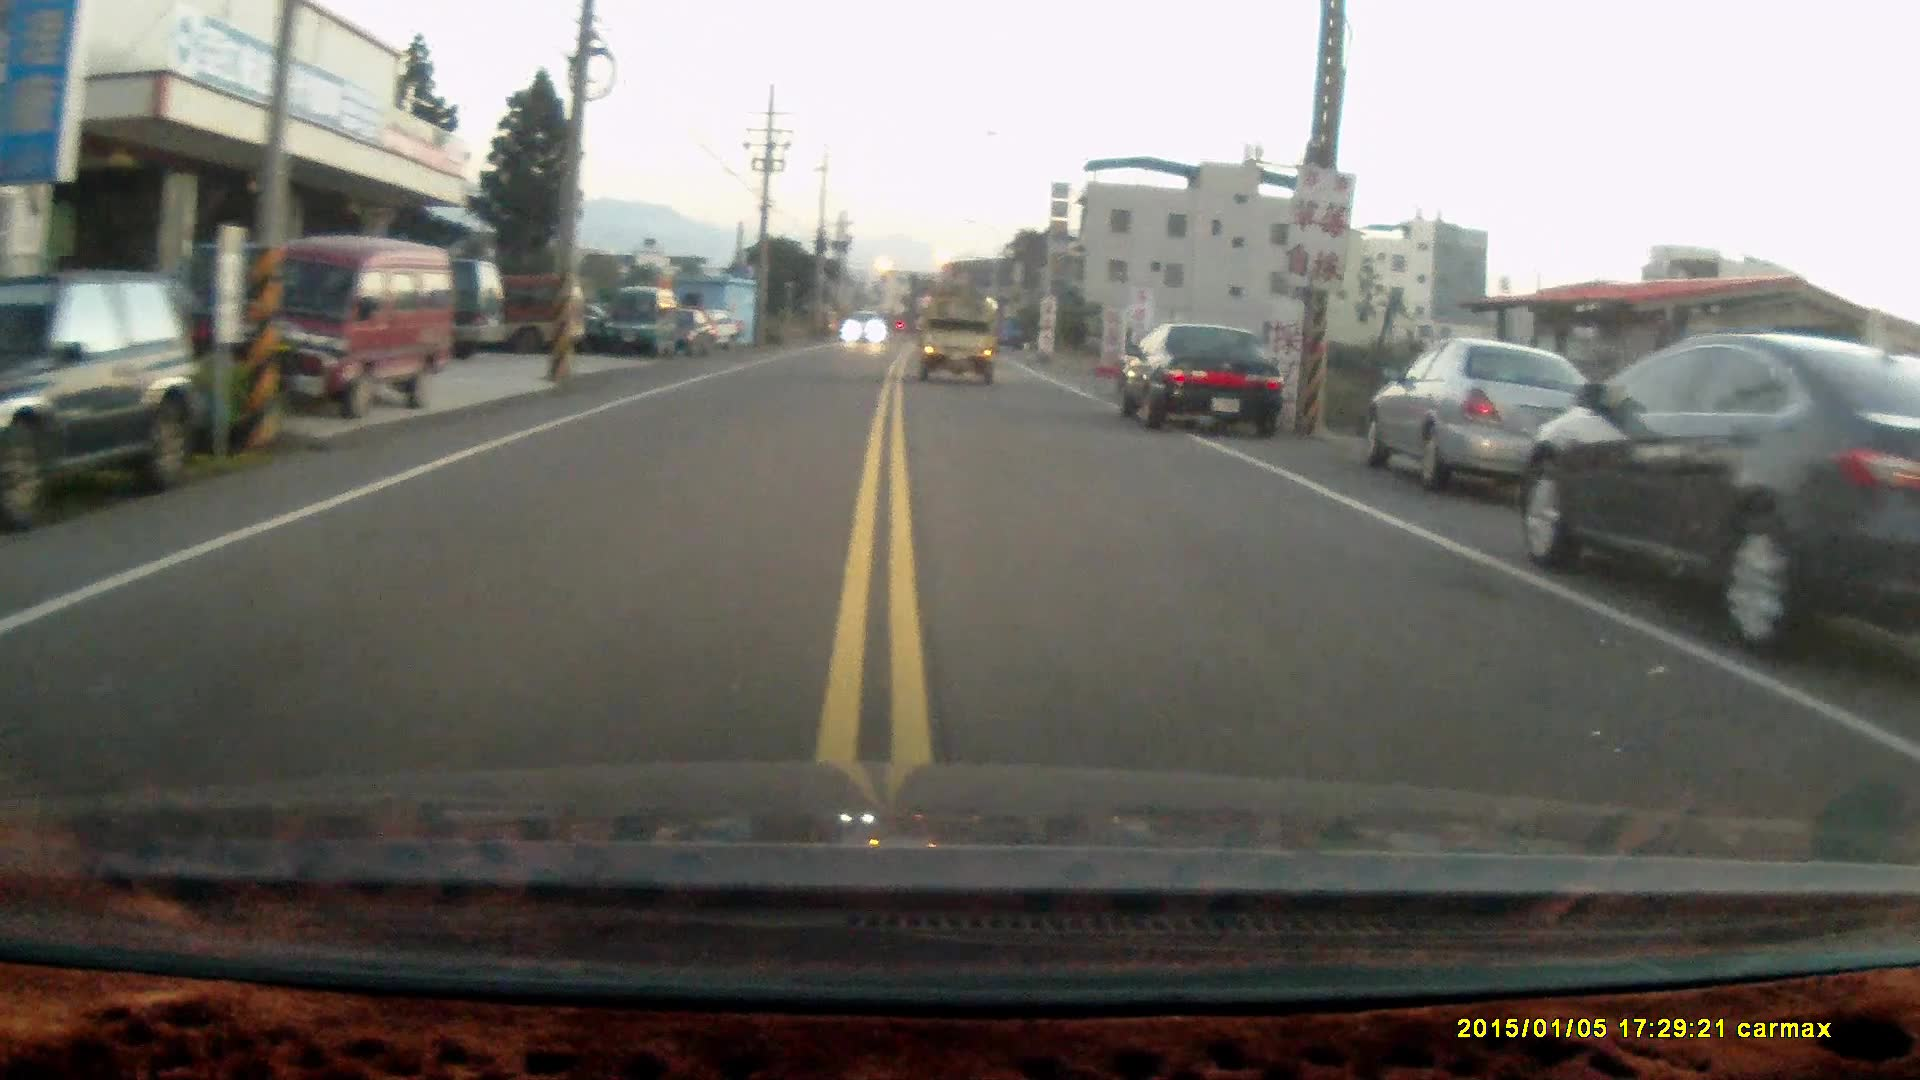vehicle: (1520, 334, 1920, 655), (1, 273, 211, 531), (216, 236, 456, 411), (1367, 336, 1619, 491), (307, 248, 513, 357), (1113, 316, 1284, 440), (423, 268, 584, 349), (922, 294, 1006, 384), (605, 287, 680, 355)
